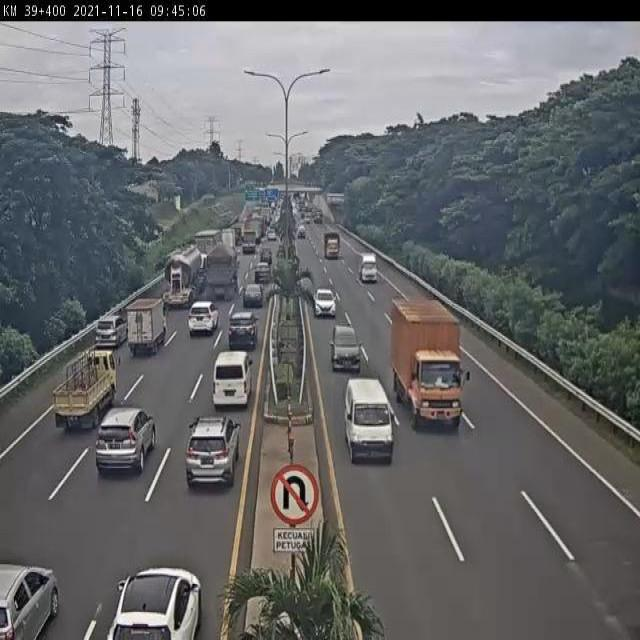car: (344, 379, 394, 464), (95, 409, 156, 474), (185, 420, 237, 492), (330, 325, 363, 372), (95, 313, 130, 347), (228, 313, 257, 351), (186, 304, 217, 339), (313, 288, 337, 319), (242, 284, 264, 311), (253, 263, 272, 284)
small bus: (211, 352, 249, 407)
small truck: (54, 352, 116, 433), (125, 296, 167, 356)
truck-l-: (205, 245, 240, 300)
truck-m-: (393, 301, 463, 428)
truck-xl-: (162, 244, 205, 307)
